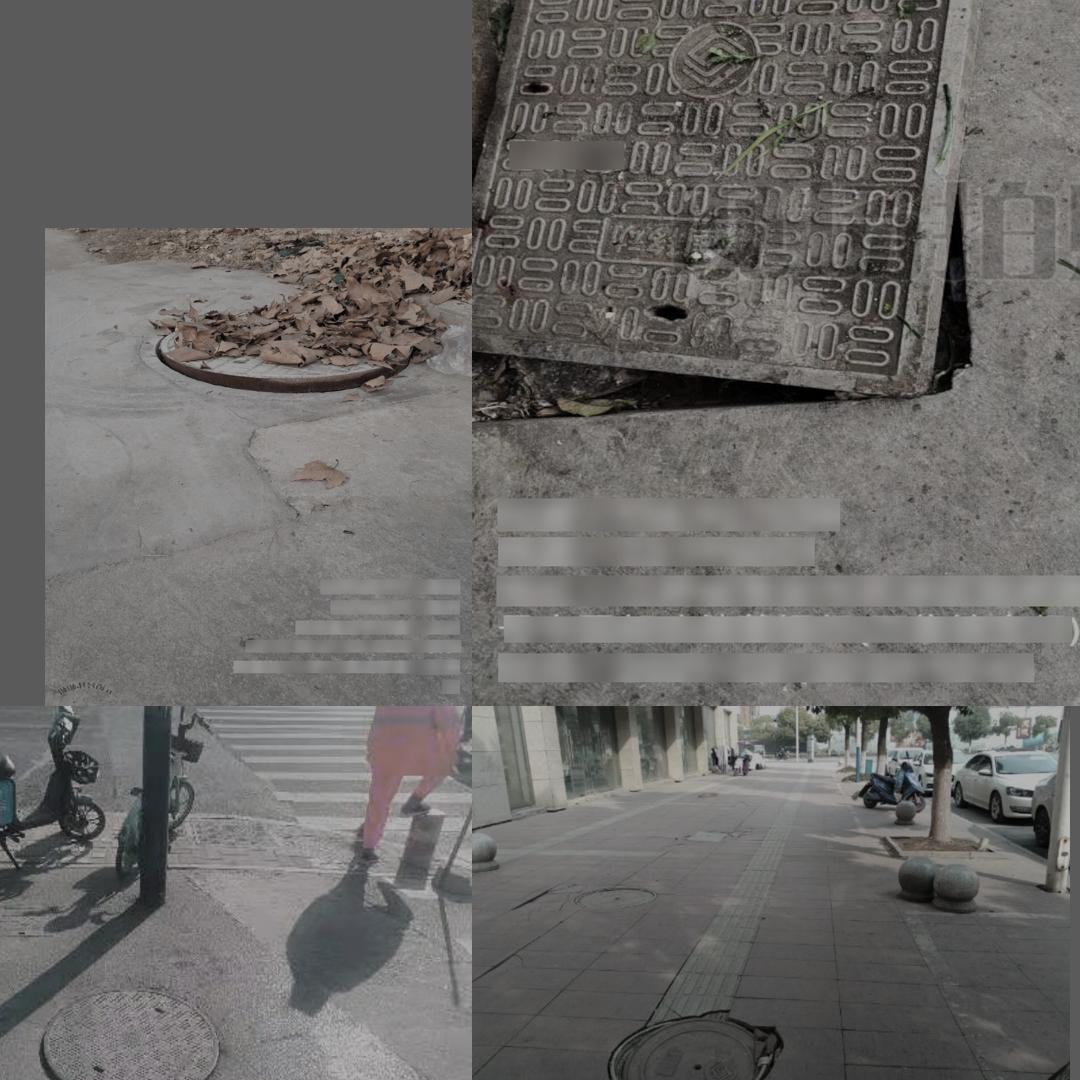good: (574, 887, 657, 906)
uncovered: (478, 0, 1014, 417), (138, 316, 414, 399), (36, 989, 220, 1080), (608, 1017, 778, 1080)
